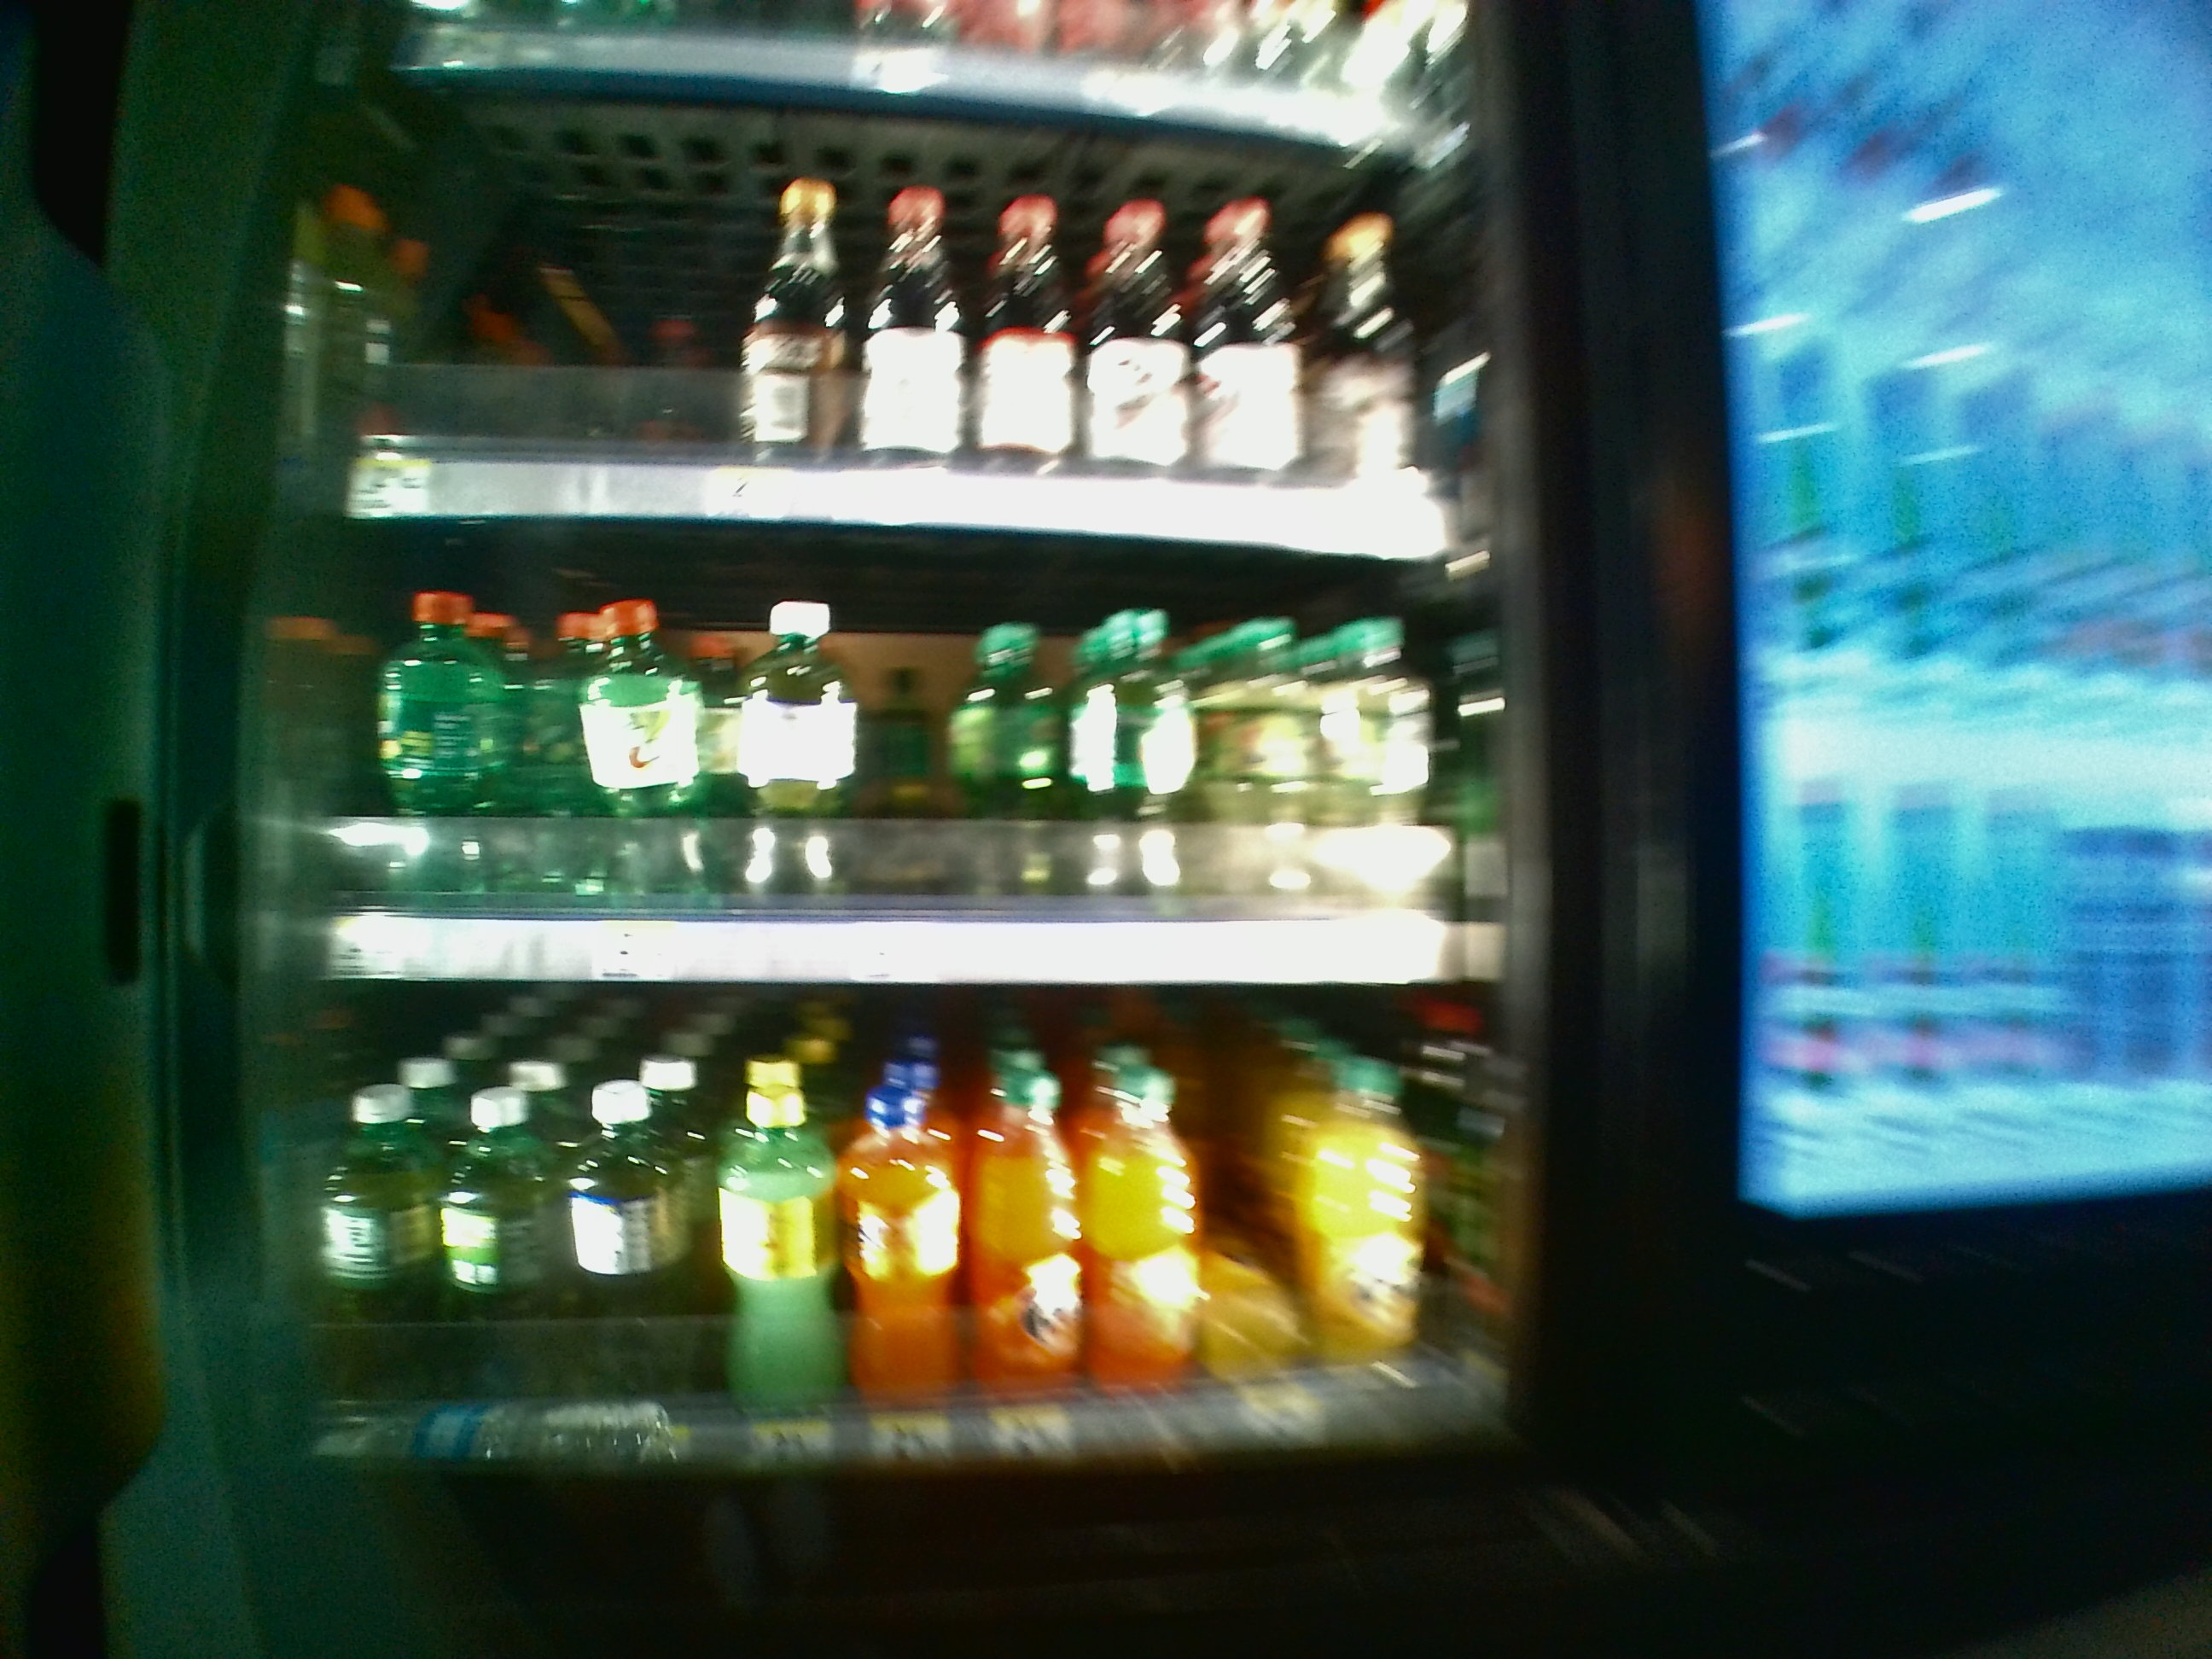shelf: (303, 995, 1524, 1480), (307, 512, 1519, 990)
